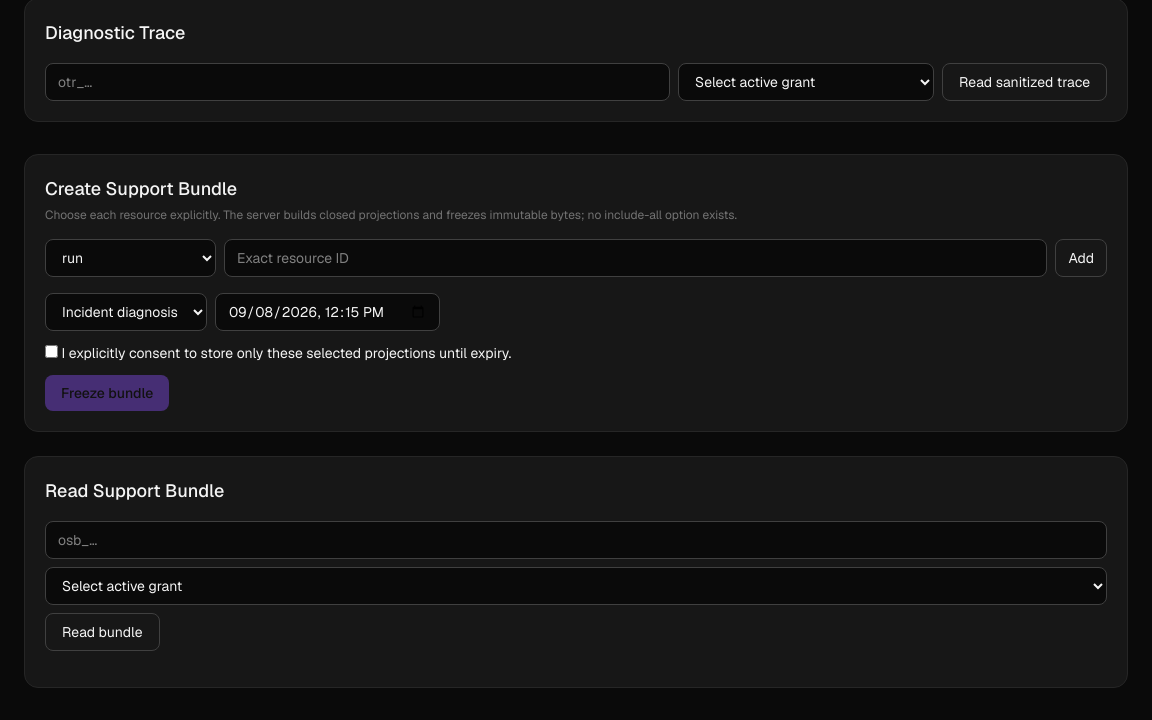
Test: ObservabilityCockpit › reads payload once before audit without a duplicate metadata read
The width and height of the screenshot is (1152, 720).
(page scrolled)
expect the dropdown named "Bundle Operator Grant ID" is shown: met, box [45, 567, 1107, 605]
Type "bundle_1" into the field named "Bundle ID" at (576, 540), box [45, 521, 1107, 559]
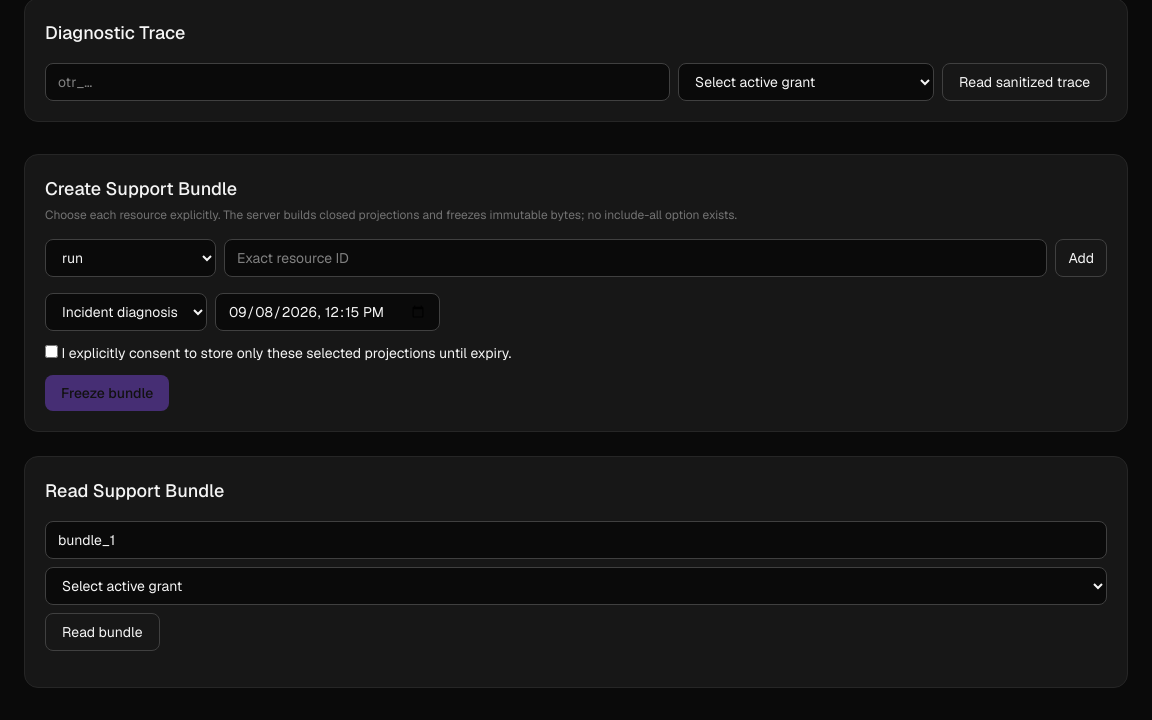
Submit the form named "Bundle ID", box [45, 521, 1107, 651]
(page scrolled)
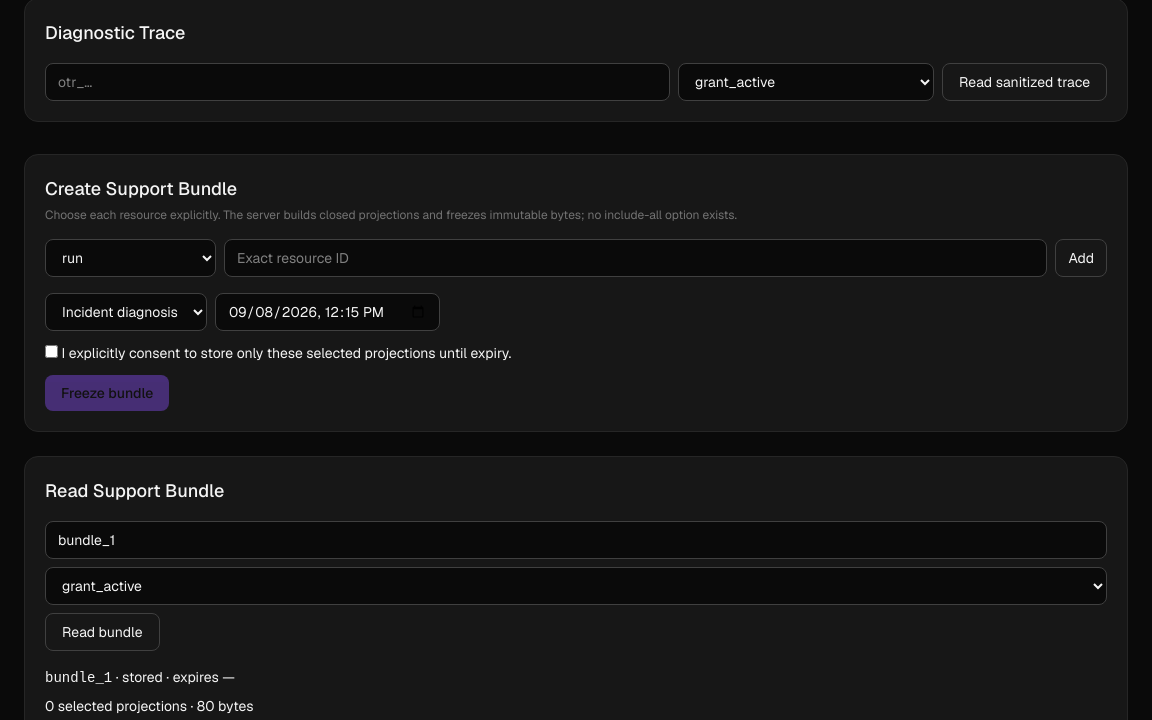
expect the text "bundle_1" is shown: met, box [45, 670, 112, 686]
